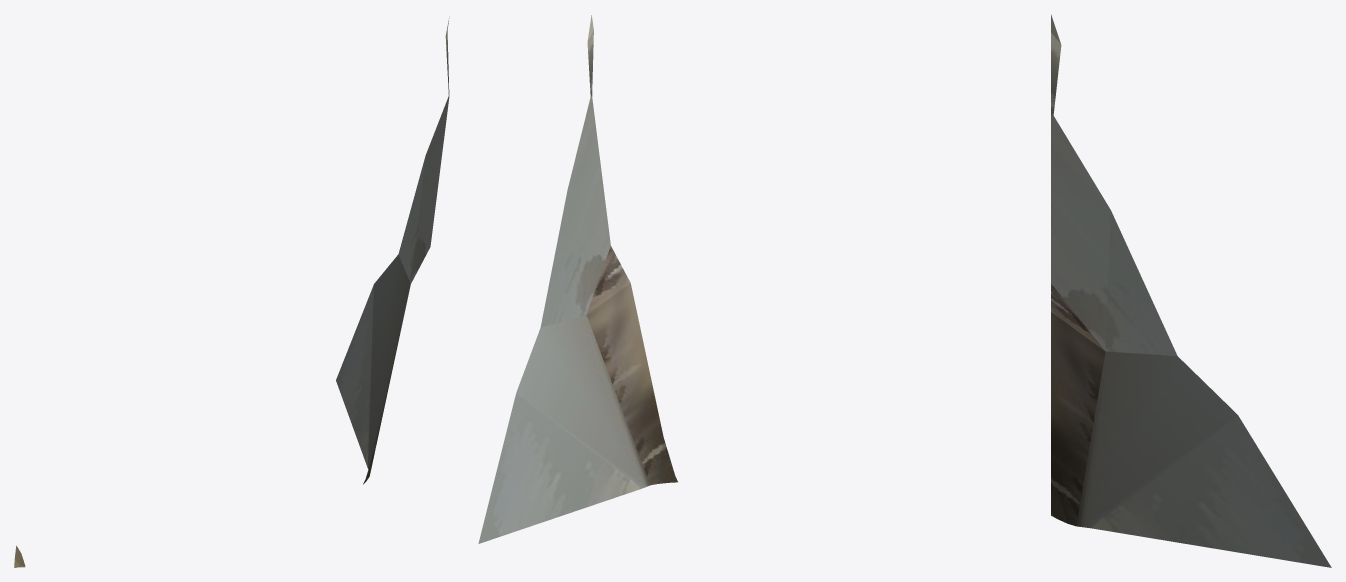
The picture shows the model from 3 angles, left to right: view 1: azimuth 30°, elevation 25°; view 2: azimuth 150°, elevation 25°; view 3: azimuth 270°, elevation 25°; orthographic projection. The views are drawn at different scales.
Bounding box in the file's own units: 0.8374 × 0.8302 × 0.3814.
1 material, 1 textured.
